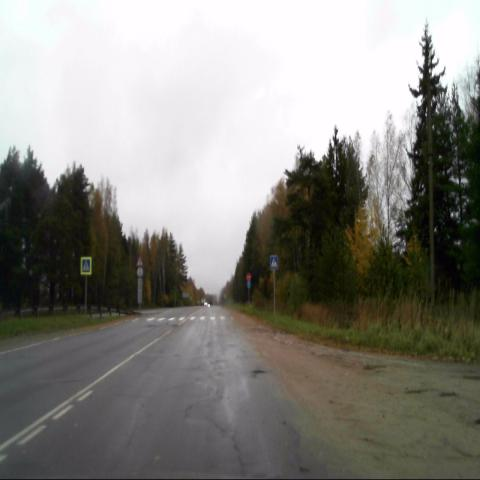5_19_1: (80, 255, 91, 277)
